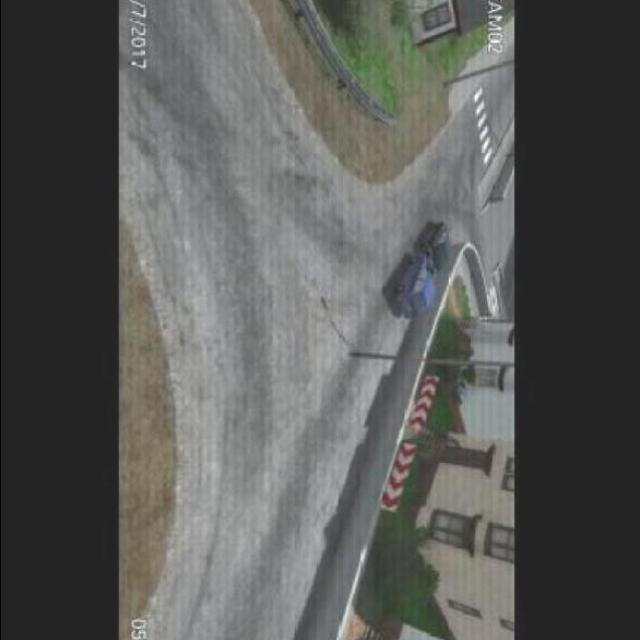accident: (383, 212, 455, 320)
